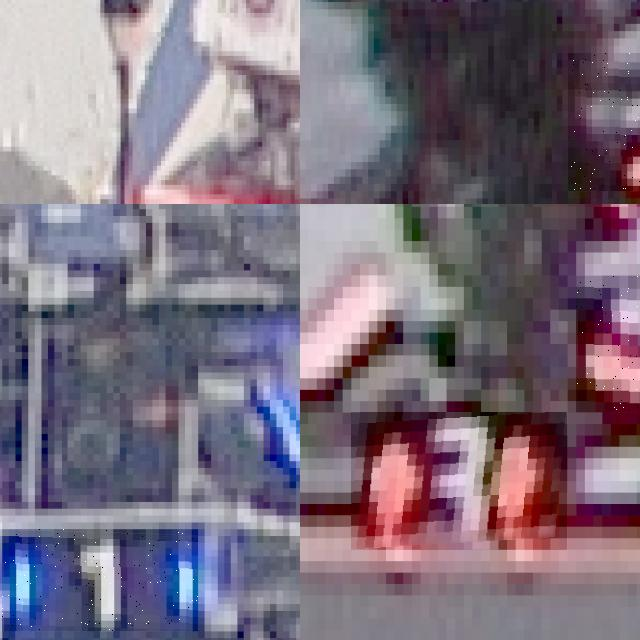B1: (2, 530, 198, 632)
R3: (352, 412, 568, 550), (568, 53, 640, 191), (576, 275, 640, 412)
